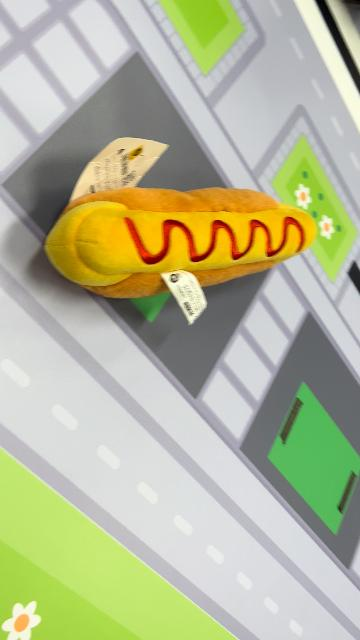hotdog: (44, 186, 318, 302)
